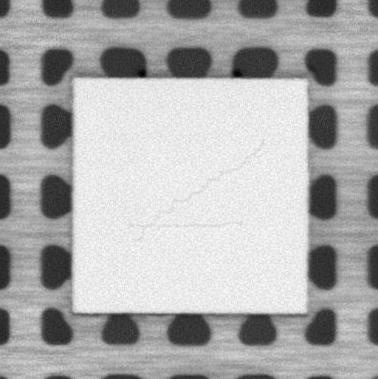DIE_CRACK: (140, 140, 268, 250), (131, 219, 246, 229)
